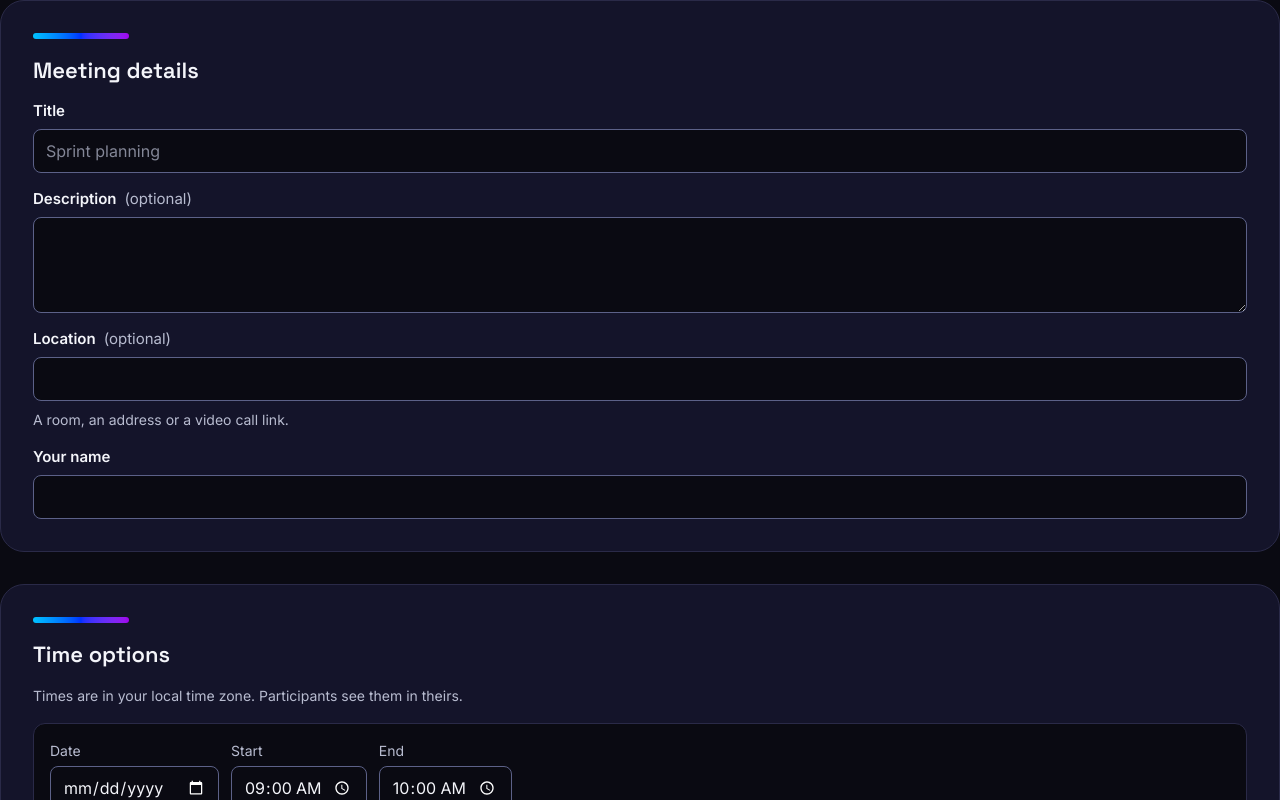
Test: CreatePollForm › shows a server error
Step 1. Type "Retro" into the field labelled "Title" → (640, 151), box [33,129,1247,173]
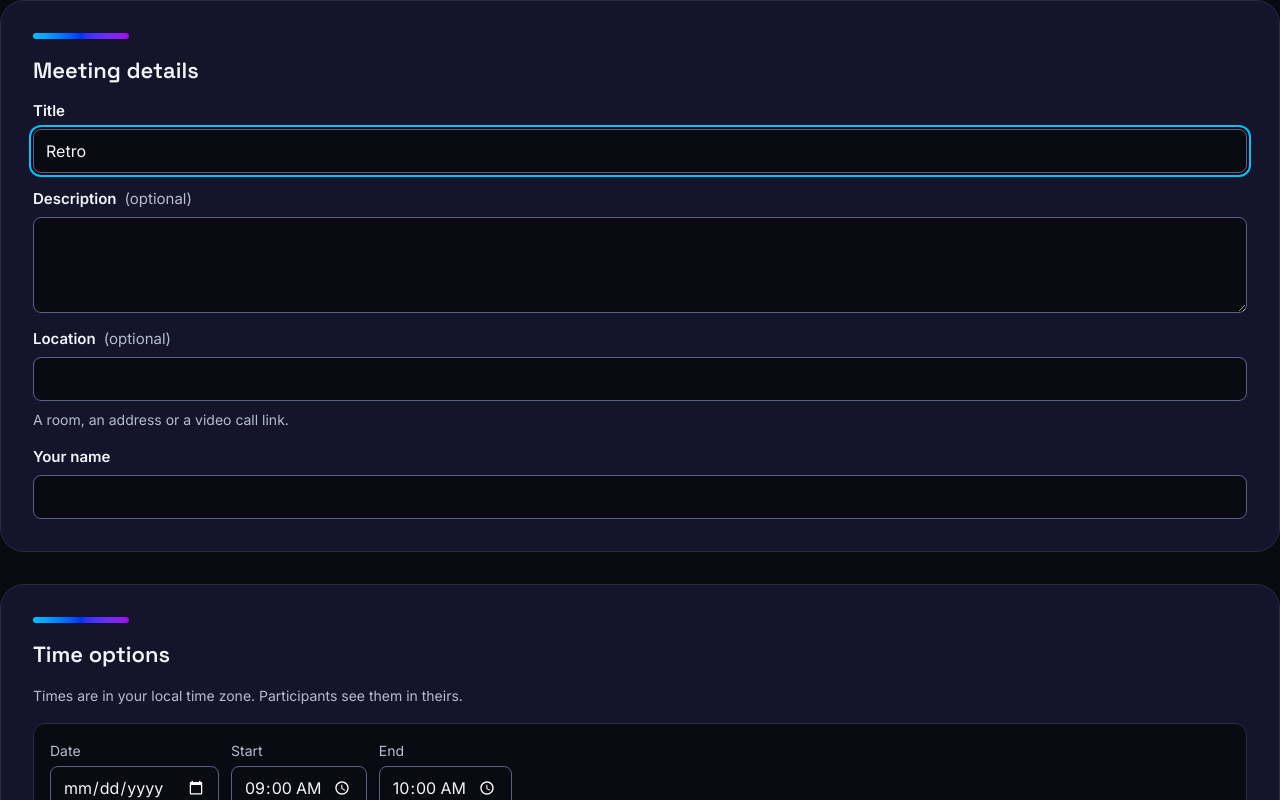
Step 2. Type "Ann" into the field labelled "Your name" → (640, 497), box [33,475,1247,519]
(page scrolled)
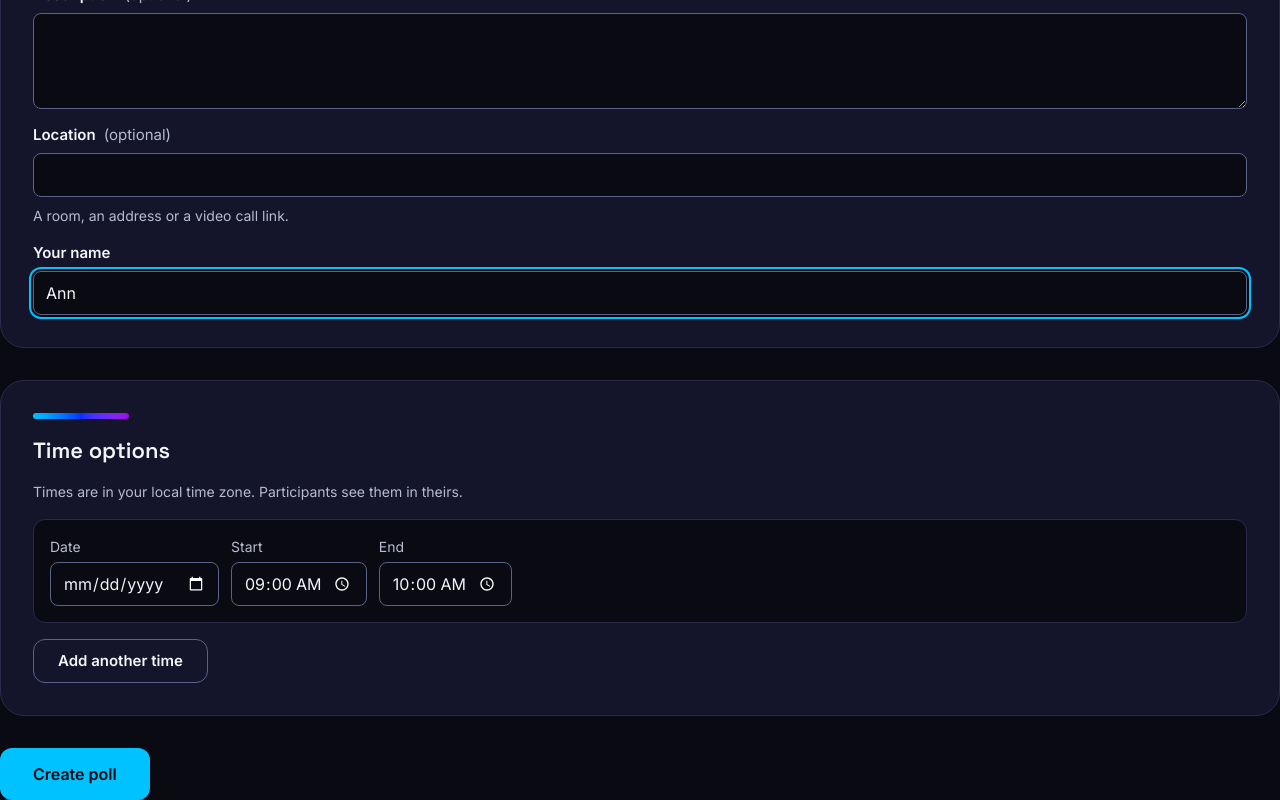
Step 3. Type "2026-12-01" into the date field named "Option 1 date" → (134, 584), box [50,562,219,606]
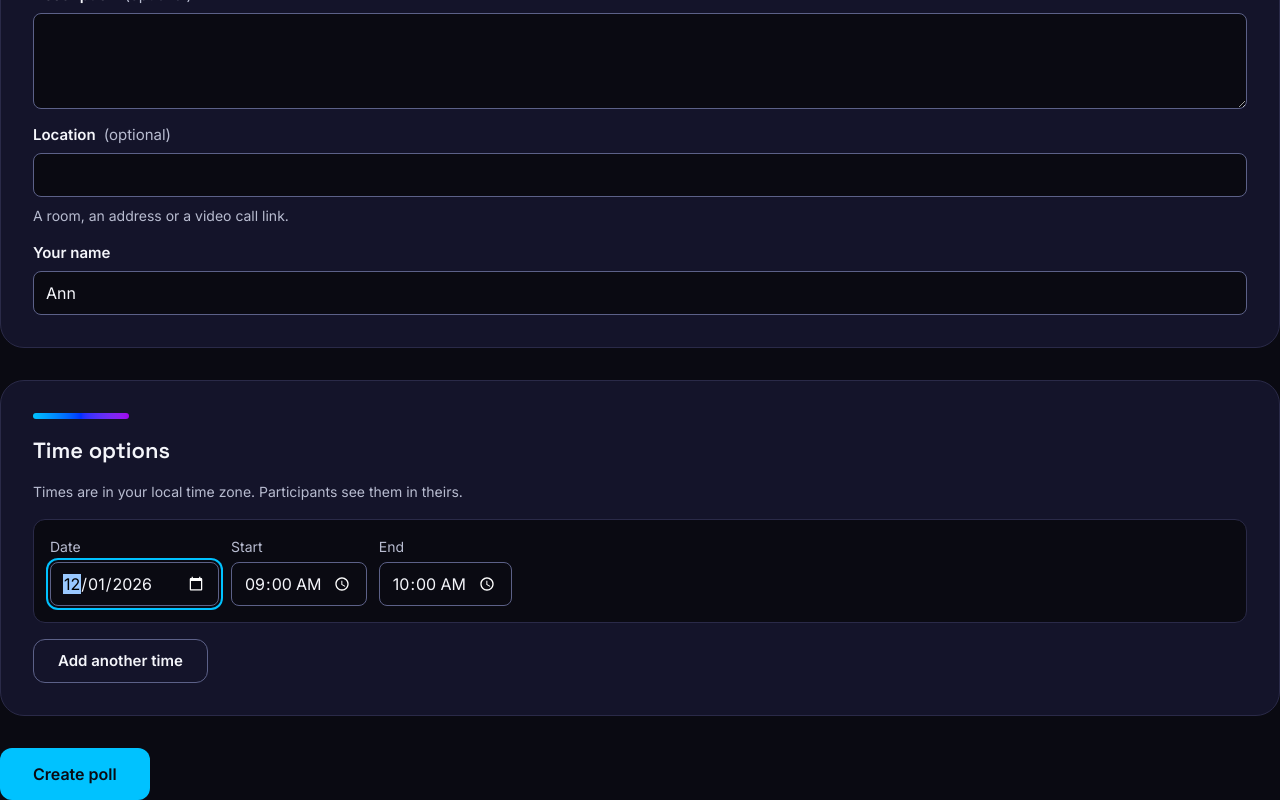
Step 4. Click the button "Create poll" → click(75, 774), box [0,748,150,799]
(page scrolled)
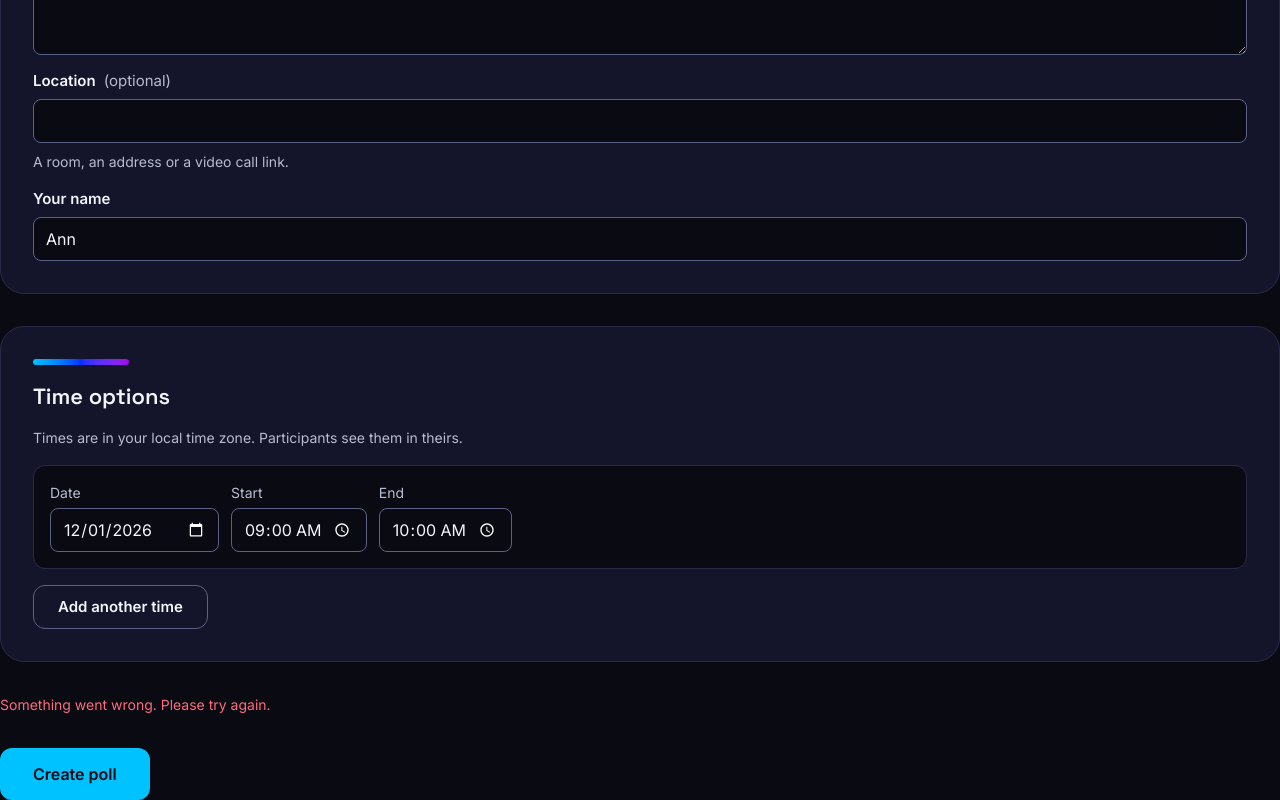
Expected: the message shows "Something went wrong", [0,696,271,713]
